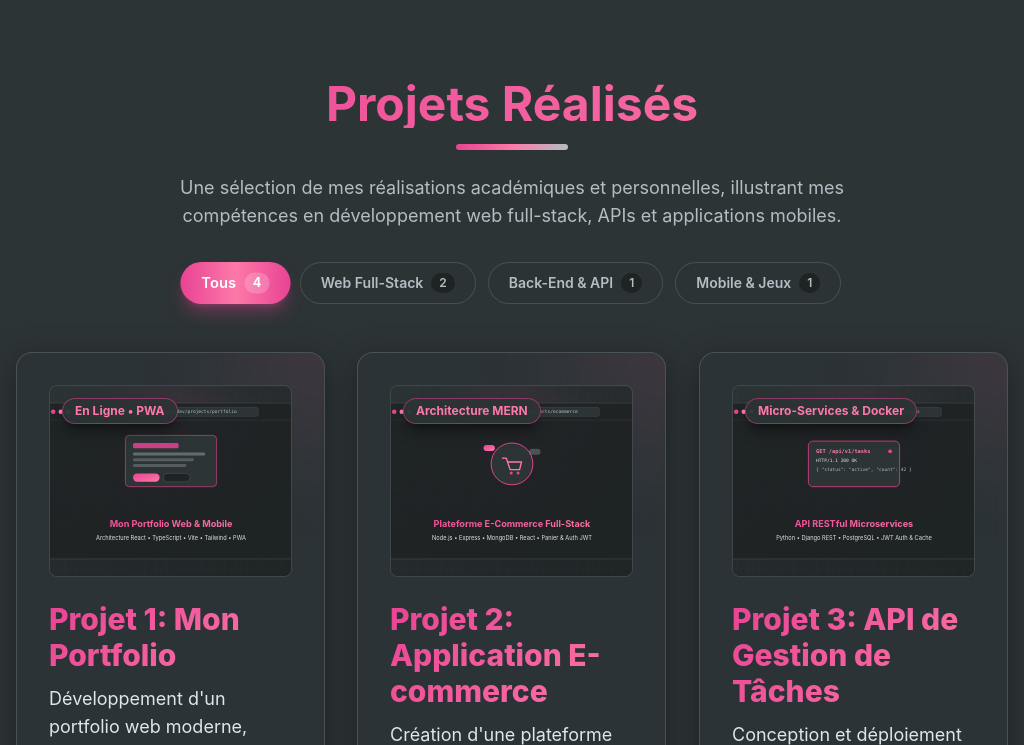
renders all project categories and filters projects on click
Expected: the tab "Tous 4" is shown, [180,262,290,304]
Expected: the tab "Web Full-Stack 2" is shown, [300,262,476,304]
Note: Filtrer par Mobile & Jeux
What coordinates should you click on to do the following:
click the tab "Mobile & Jeux 1"
I would click on:
 (758, 283)
Its box is [675,262,841,304].
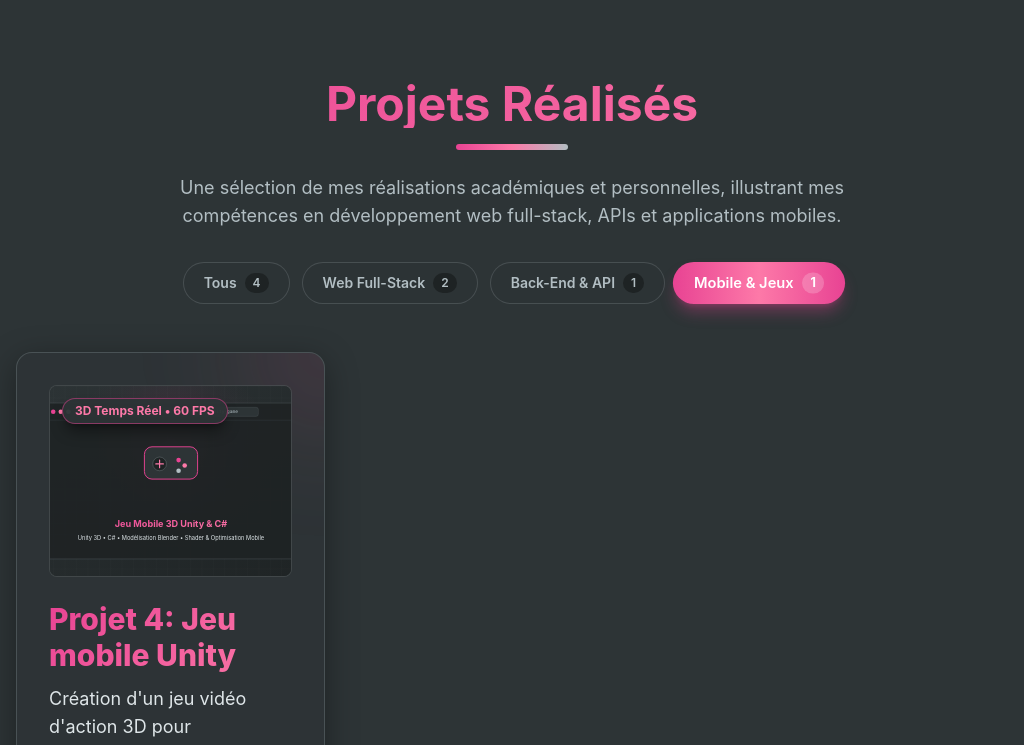
Expected: the heading "Projet 4: Jeu mobile Unity" is shown, [49,601,292,673]
Expected: the heading "Projet 1: Mon Portfolio" is gone
Note: Revenir à Tous
What coordinates should you click on to do the following:
click the tab "Tous 4"
I would click on:
 (236, 283)
Its box is [183,262,290,304].
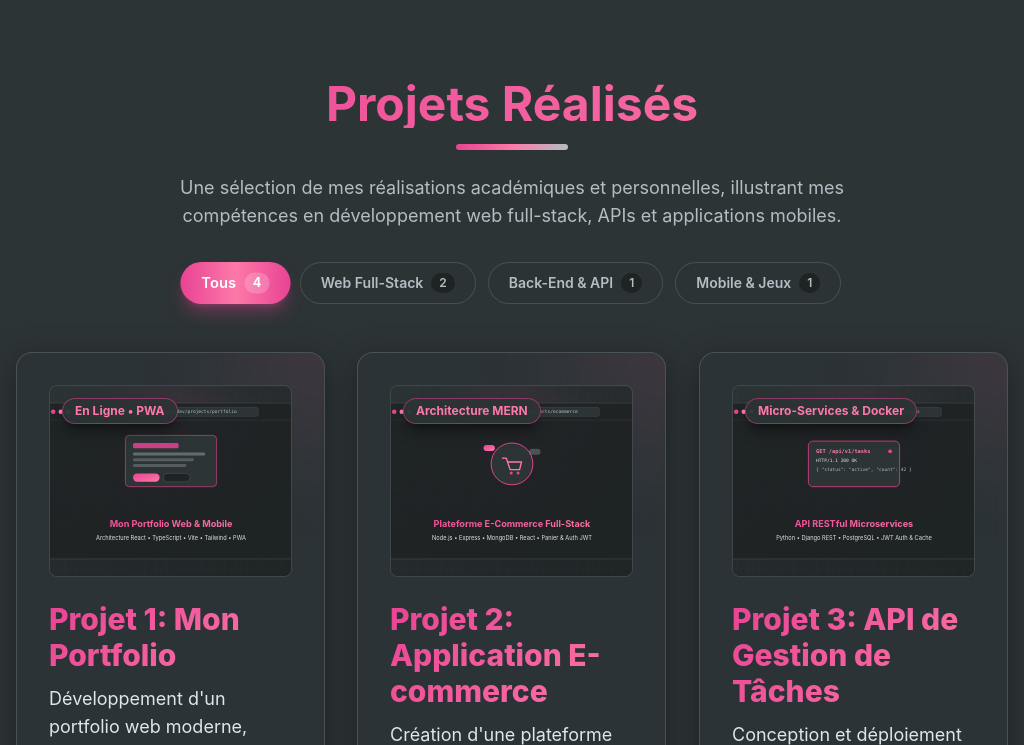
Expected: the heading "Projet 1: Mon Portfolio" is shown, [49,601,292,673]
